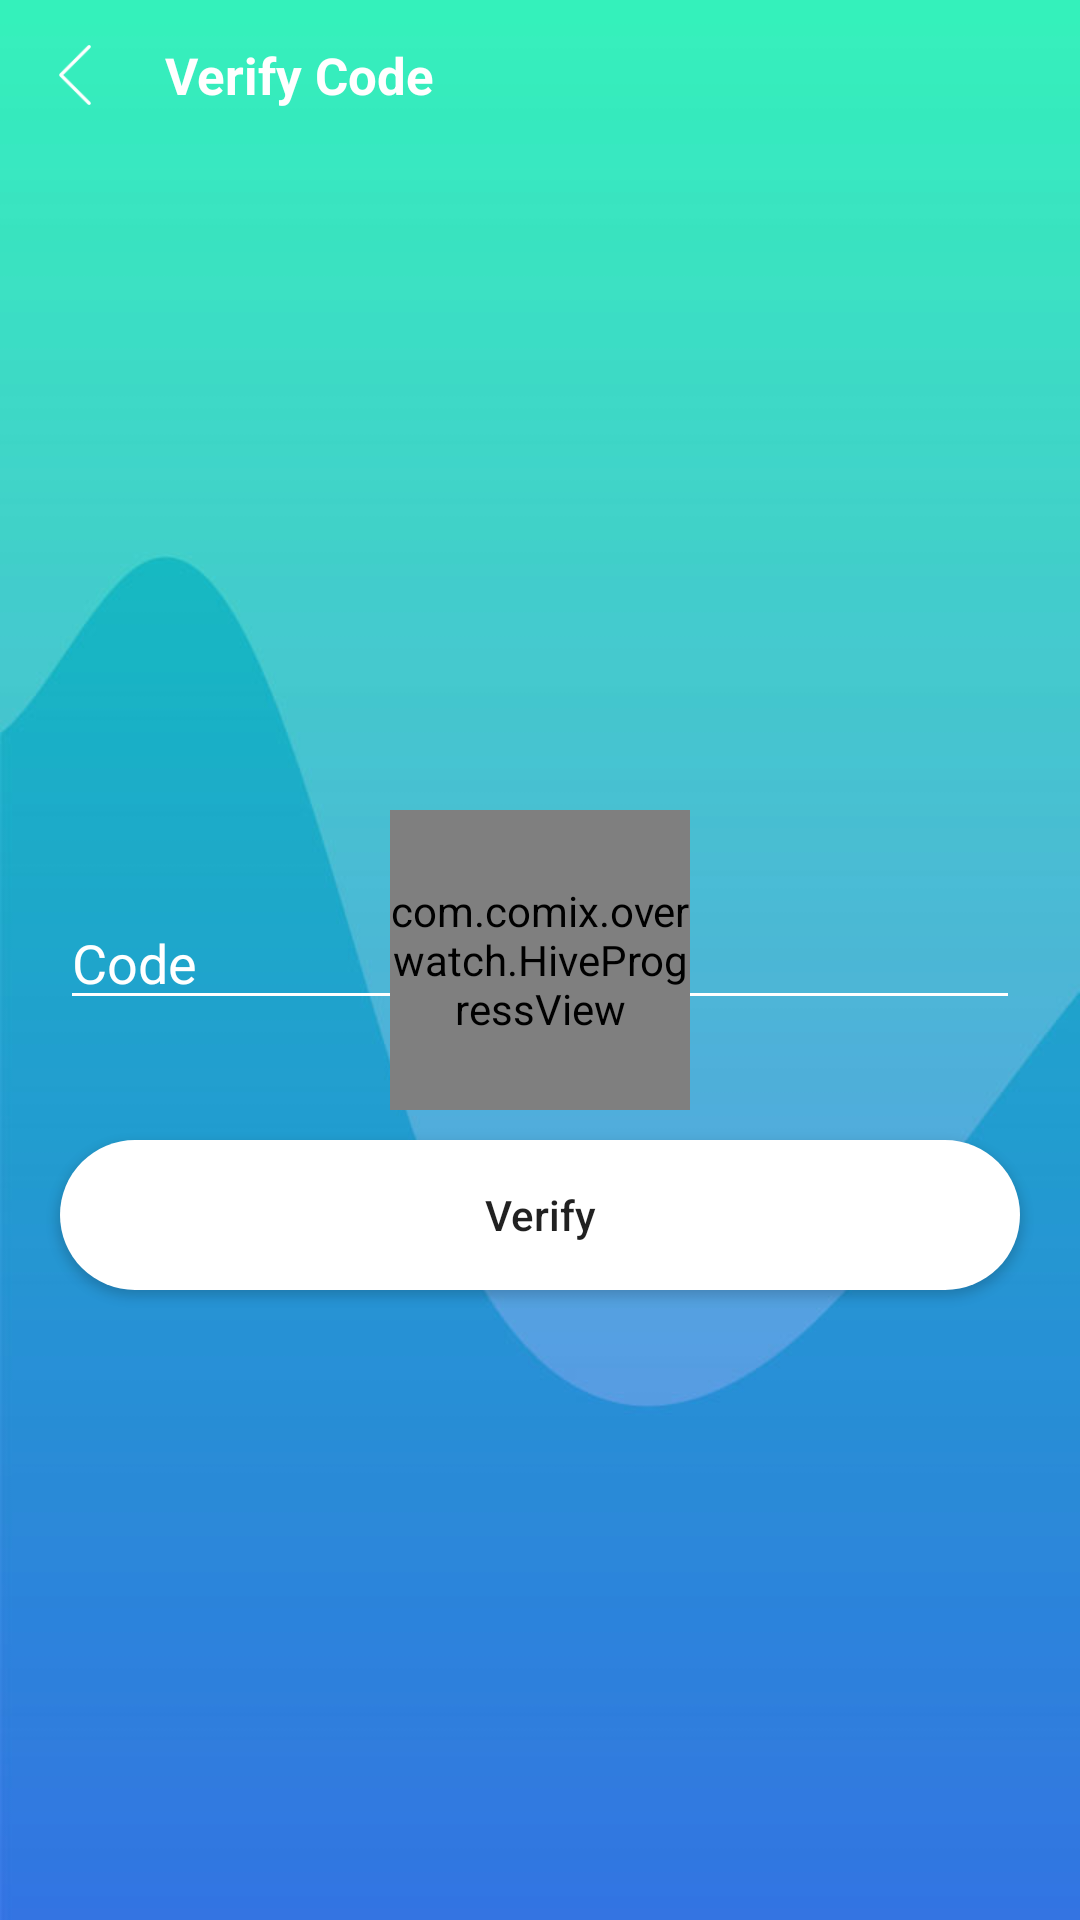

Screen size 1080px×1920px. Icon name, then its box in pixels as bbox(x1, y1, x2, y2):
whiteback: bbox(59, 45, 91, 105)
